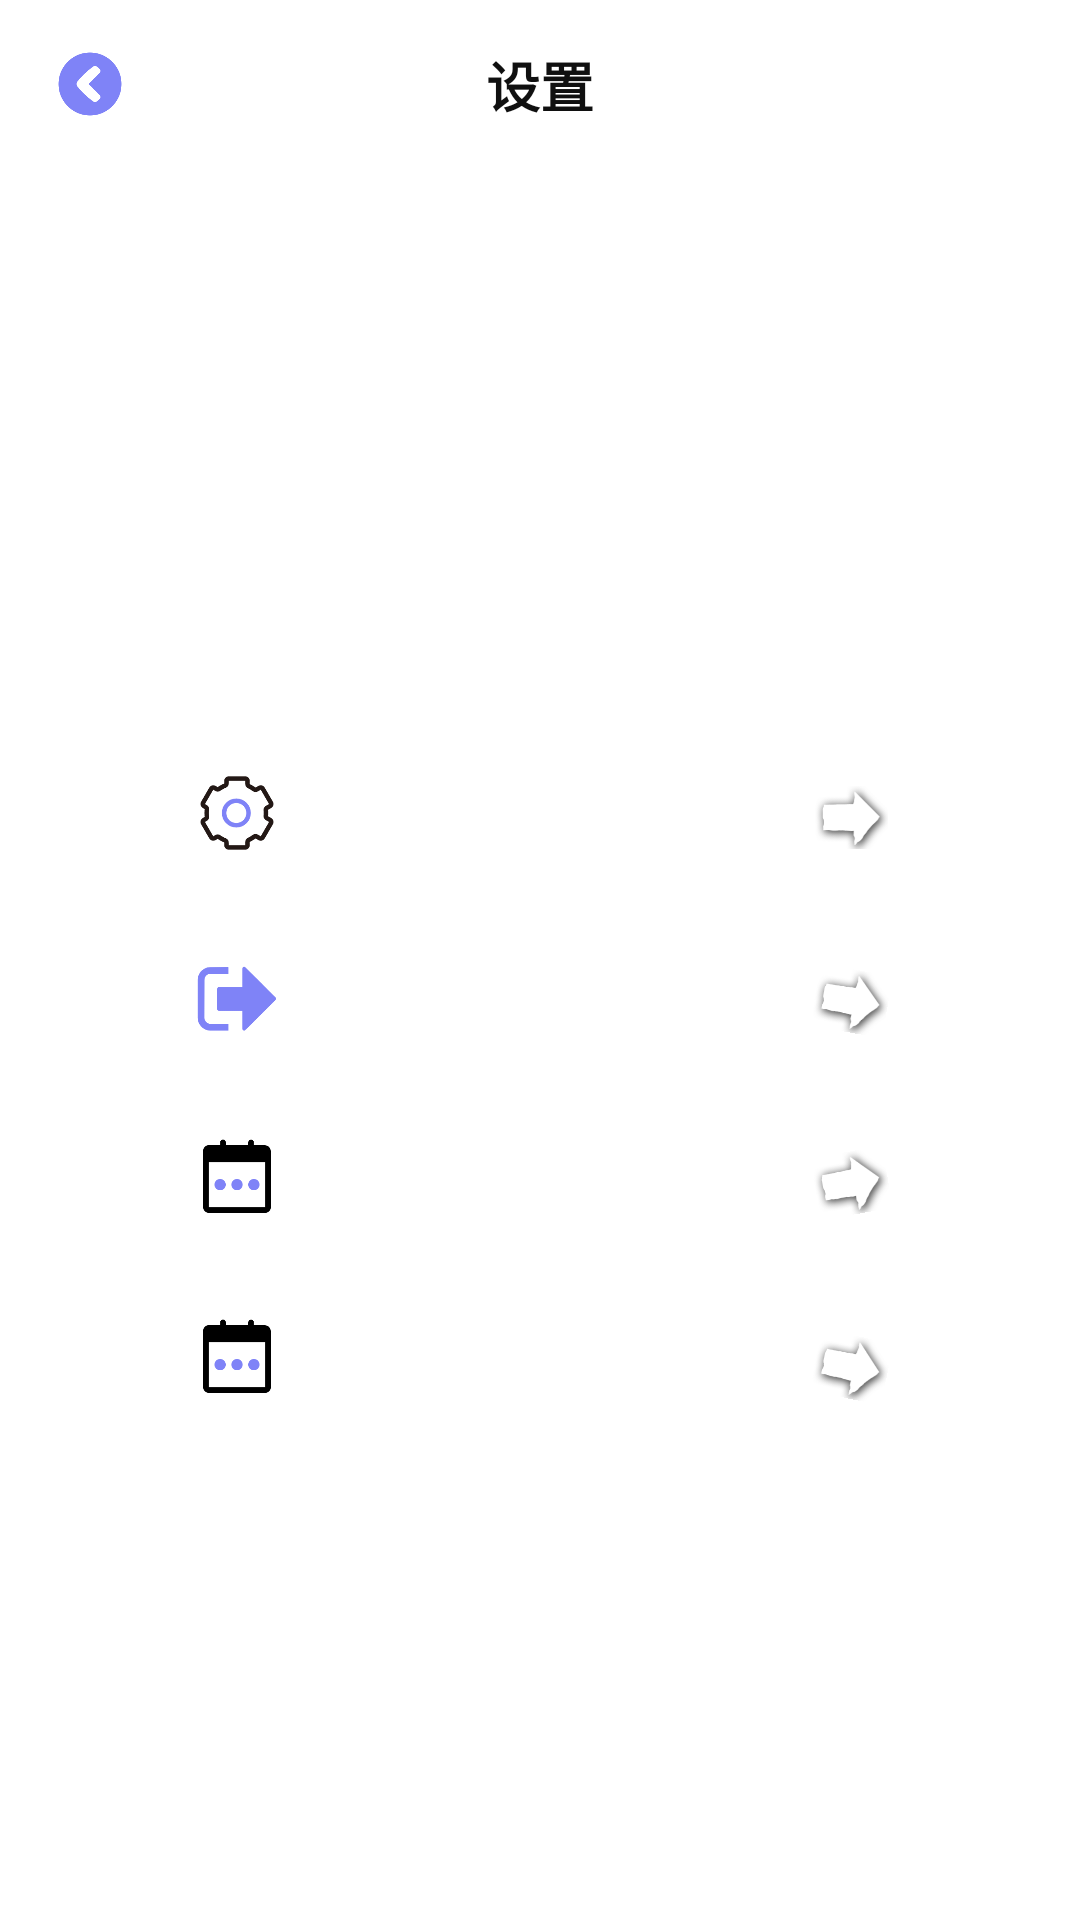

Screen size 1080x1920. Icon name, then its center in pixels as [x,y]:
back: [90,84]
setting: [237,813]
